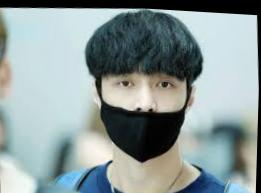WRONG: (98, 42, 191, 158)
